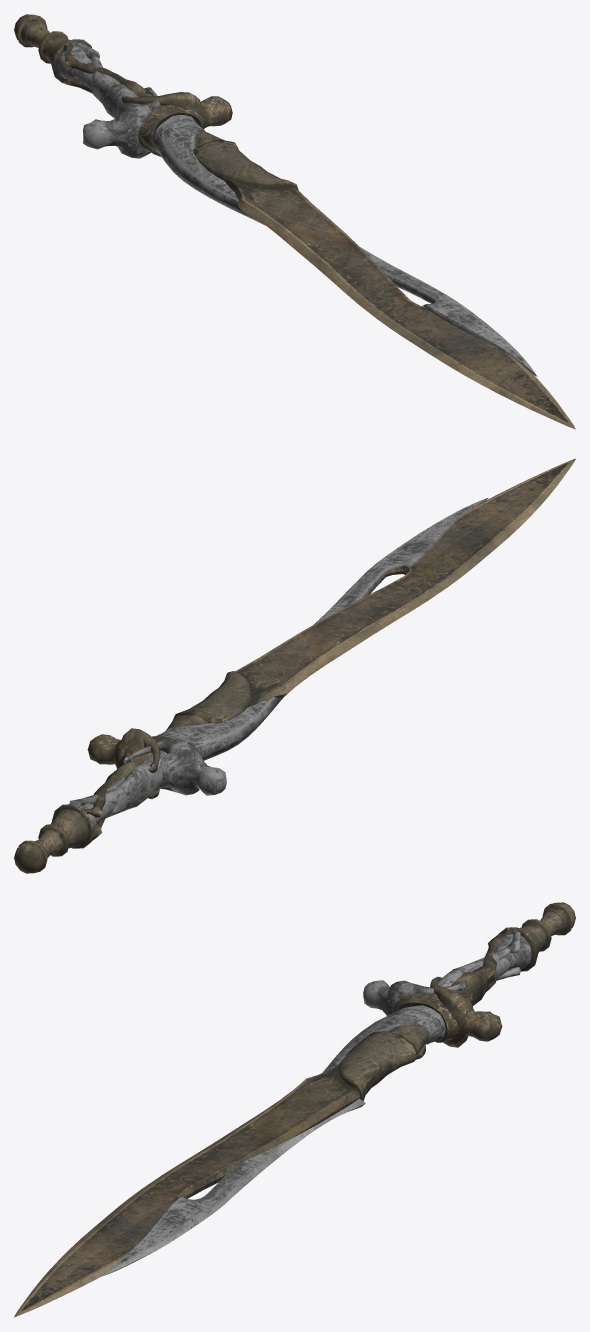
3 views of the same model, one above another, from view 1: azimuth 30°, elevation 25°; view 2: azimuth 150°, elevation 25°; view 3: azimuth 330°, elevation 25° (orthographic).
Visible parts, largest first — view 1: WP_A_0614; view 2: WP_A_0614; view 3: WP_A_0614.
Part boxes in pixels (left/top/right/bottom): WP_A_0614: left=14, top=14, right=575, bottom=429; WP_A_0614: left=14, top=458, right=575, bottom=873; WP_A_0614: left=14, top=902, right=575, bottom=1317.
Size of the model in its own units: 22.12 by 7.94 by 150.
1 material, 1 textured.
